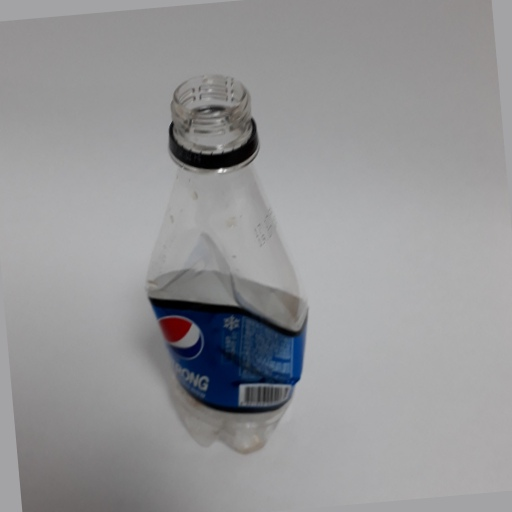Plastic_0: (141, 75, 313, 455)
